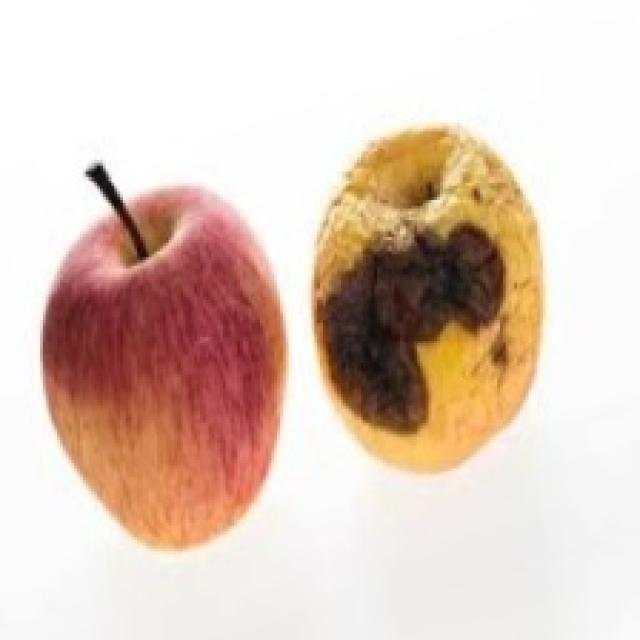rotten_apple: (316, 133, 541, 466)
